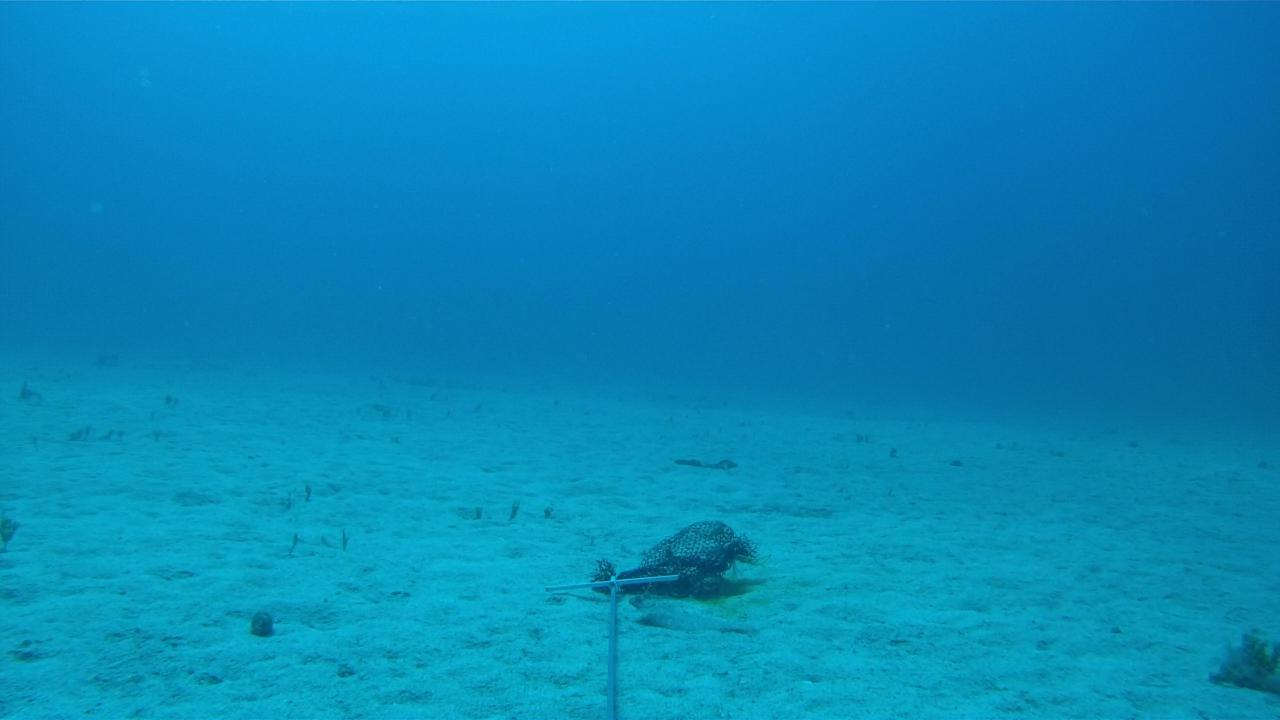bothus: (629, 593, 756, 631)
